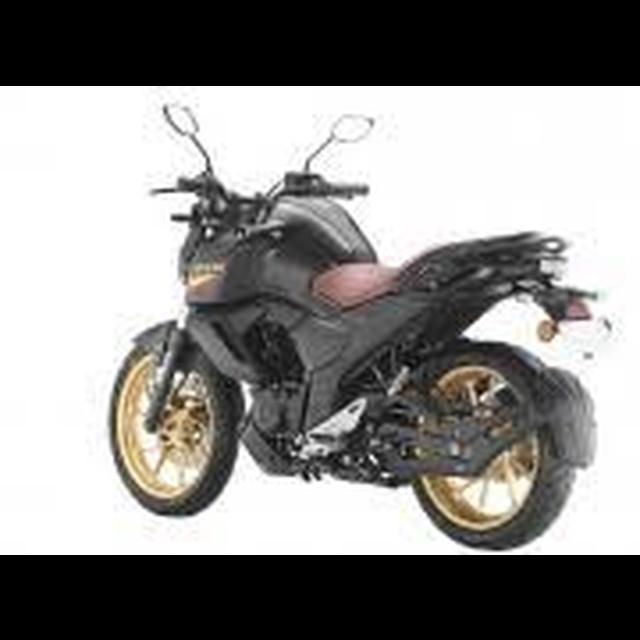motorcycle: (109, 93, 613, 551)
